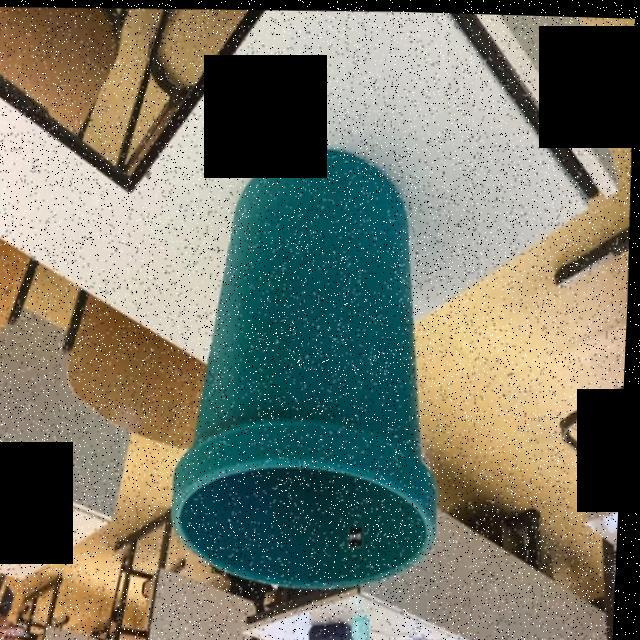bin: (149, 124, 454, 607)
